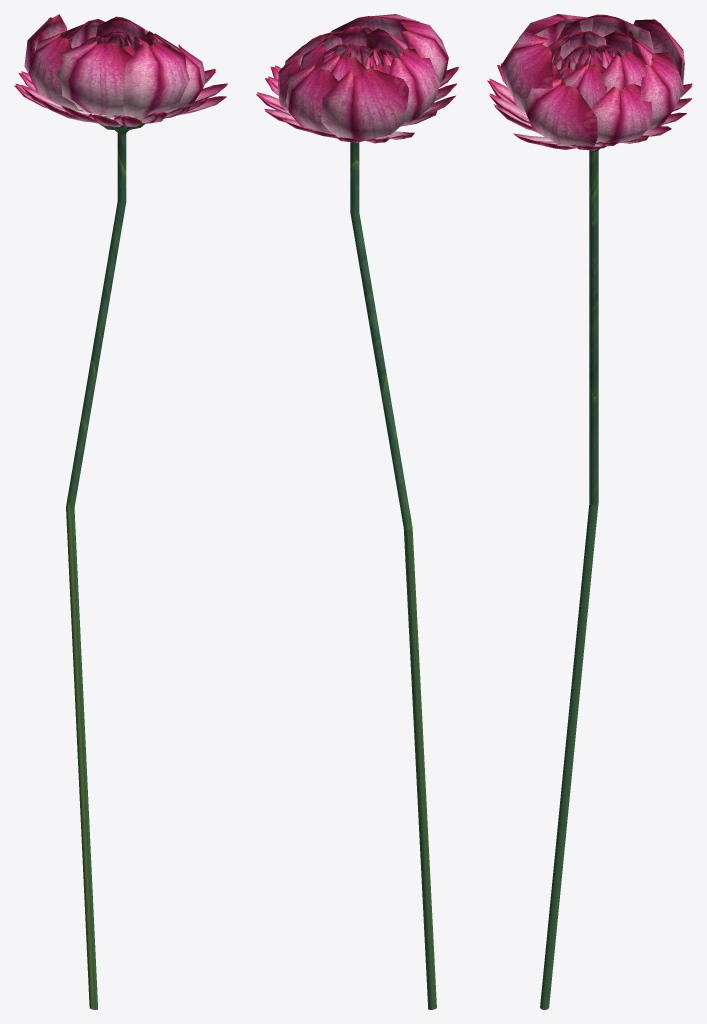
The model's file is chrysantum.glb.
The picture shows the model from 3 angles, left to right: view 1: azimuth 30°, elevation 25°; view 2: azimuth 150°, elevation 25°; view 3: azimuth 270°, elevation 25°; orthographic projection. The views are drawn at different scales.
Parts seen in each view (by area): view 1: Sphere.047, Sphere.023, Sphere.022, Sphere.024, Sphere.021, Sphere.025, Sphere.002, Sphere.001; view 2: Sphere.047, Sphere.025, Sphere.027, Sphere.024, Sphere.023, Sphere.022, Sphere.001, Sphere.006, Sphere.026, Sphere.004; view 3: Sphere.047, Sphere.021, Sphere.026, Sphere.022, Sphere.027, Sphere.002, Sphere.024, Sphere.025, Sphere.023, Sphere.003, Sphere.005.
Part boxes in pixels (<box>): Sphere.047: <box>66,114,145,1009</box>; Sphere.023: <box>55,40,134,115</box>; Sphere.022: <box>123,42,189,116</box>; Sphere.024: <box>28,33,82,111</box>; Sphere.021: <box>161,44,206,112</box>; Sphere.025: <box>24,14,66,74</box>; Sphere.002: <box>96,16,156,43</box>; Sphere.001: <box>68,19,104,48</box>; Sphere.047: <box>350,142,436,1009</box>; Sphere.025: <box>321,68,408,141</box>; Sphere.027: <box>286,64,338,134</box>; Sphere.024: <box>389,48,440,125</box>; Sphere.023: <box>400,19,448,83</box>; Sphere.022: <box>331,14,419,48</box>; Sphere.001: <box>314,54,366,81</box>; Sphere.006: <box>367,28,408,58</box>; Sphere.026: <box>278,53,300,116</box>; Sphere.004: <box>338,26,373,46</box>; Sphere.047: <box>540,146,606,1009</box>; Sphere.021: <box>520,78,597,146</box>; Sphere.026: <box>591,83,654,143</box>; Sphere.022: <box>501,31,552,109</box>; Sphere.027: <box>640,52,684,129</box>; Sphere.002: <box>599,51,646,92</box>; Sphere.024: <box>557,14,653,51</box>; Sphere.025: <box>627,19,684,86</box>; Sphere.023: <box>519,14,593,47</box>; Sphere.003: <box>562,65,607,107</box>; Sphere.005: <box>552,30,606,64</box>.
Size of the model in its own units: 0.4959 by 2.54 by 0.4738.
Materials: 2 (2 with a texture image).
